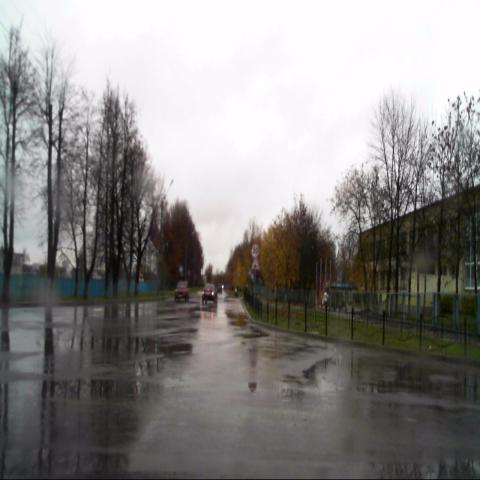1_17: (251, 256, 260, 270)
3_24: (251, 244, 259, 259)
